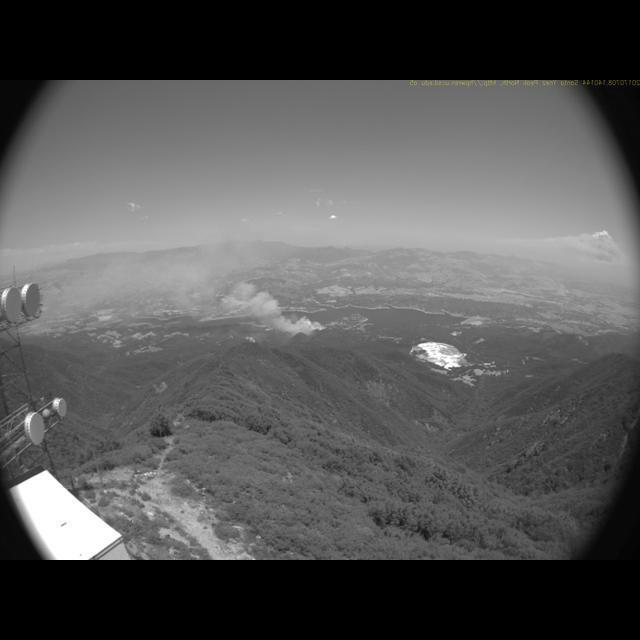Smoke: (106, 231, 330, 338)
